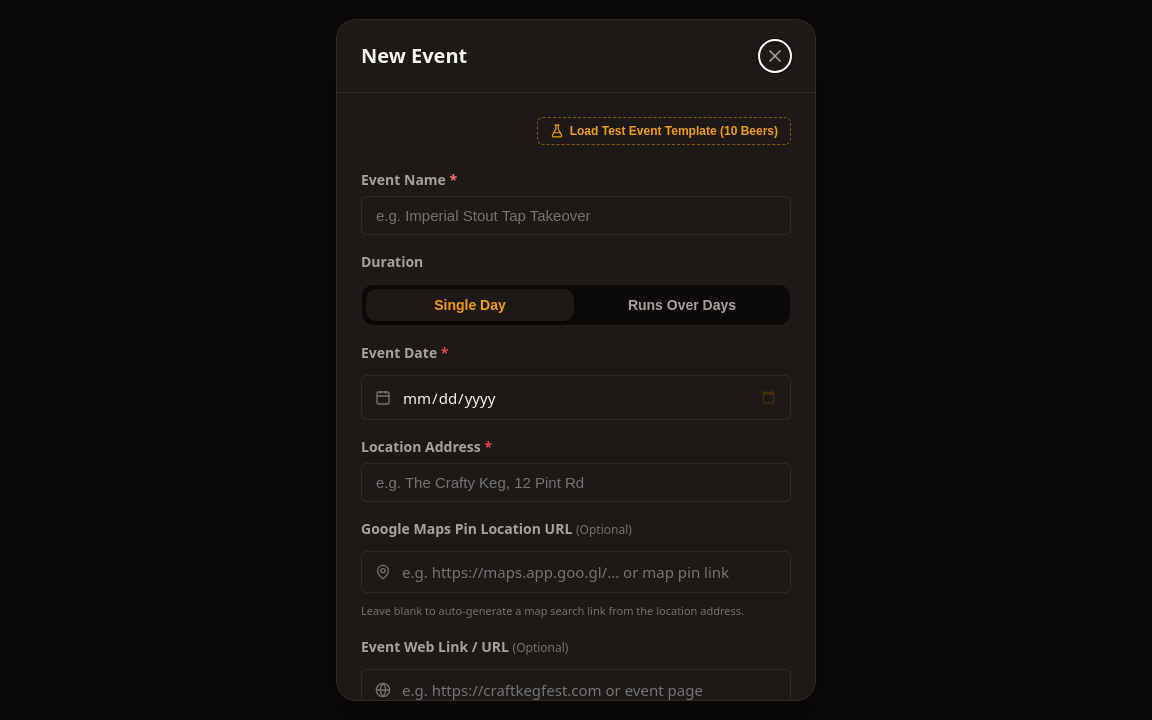
Test: EventModal › Multi-day event scenarios › handles switching between Single Day and Runs Over Days modes
Expected: the field labelled "end date" is not shown
Note: Switch to multi-day
Click the button "Runs Over Days".
click(682, 305)  # box 578,289 -> 786,321
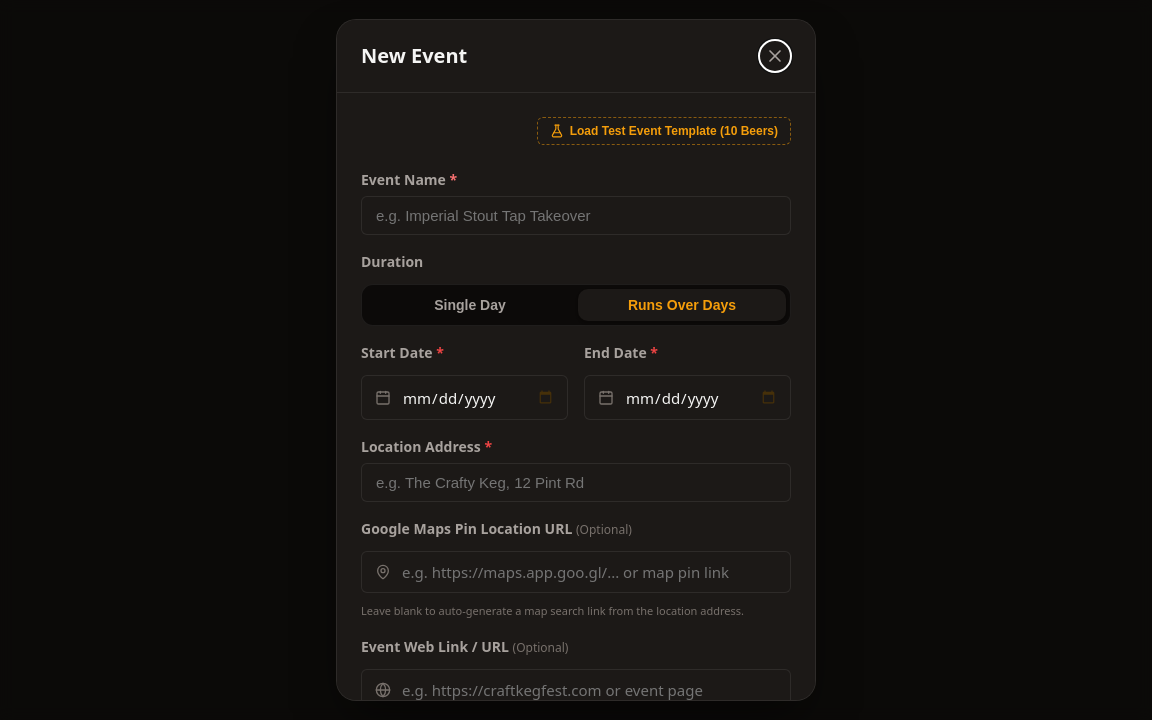
Expected: the date field labelled "End Date *" is shown, 584,375 -> 791,420
Note: Switch back to single day
Click the button "Single Day".
click(470, 305)  # box 366,289 -> 574,321
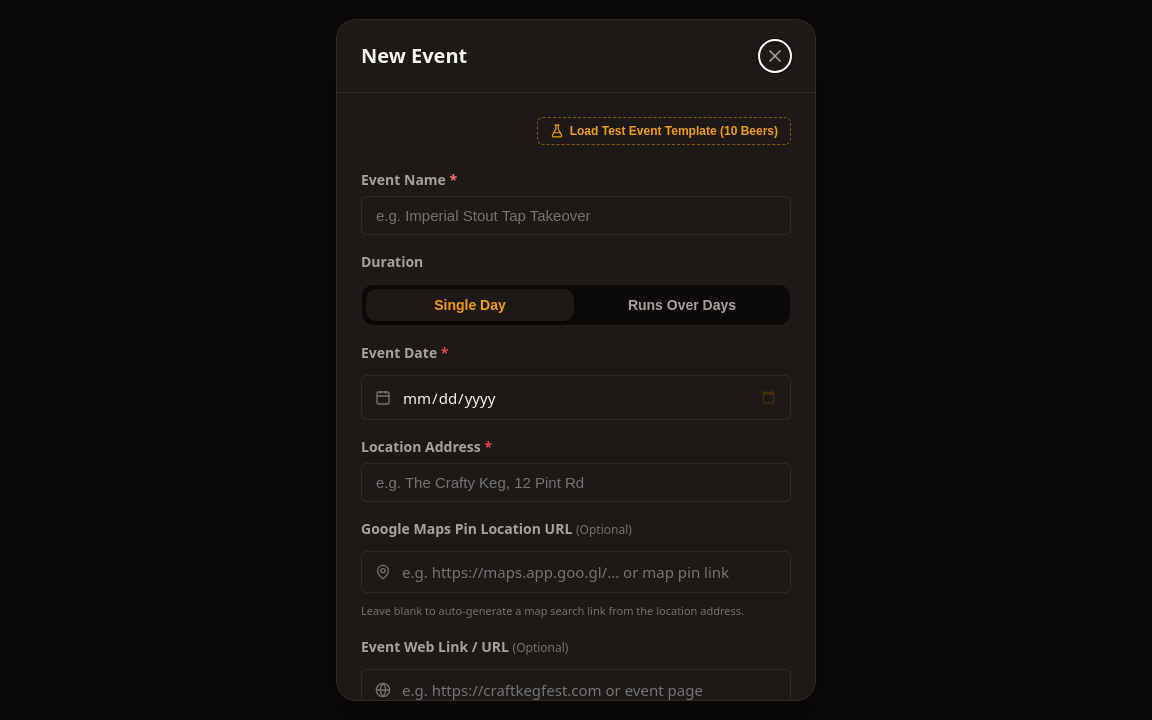
Expected: the label labelled "End Date" is gone
